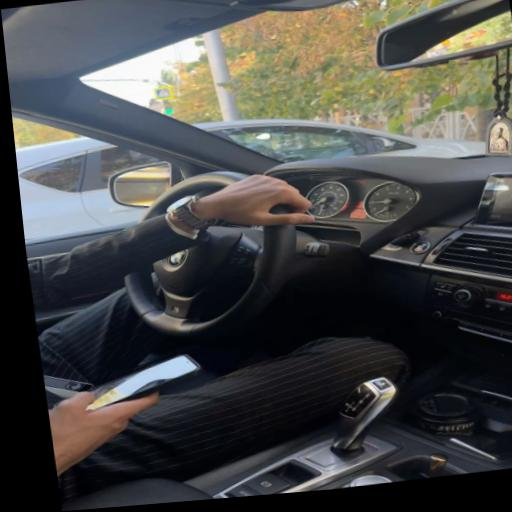Hands-on-the-Wheel: (148, 158, 335, 252)
